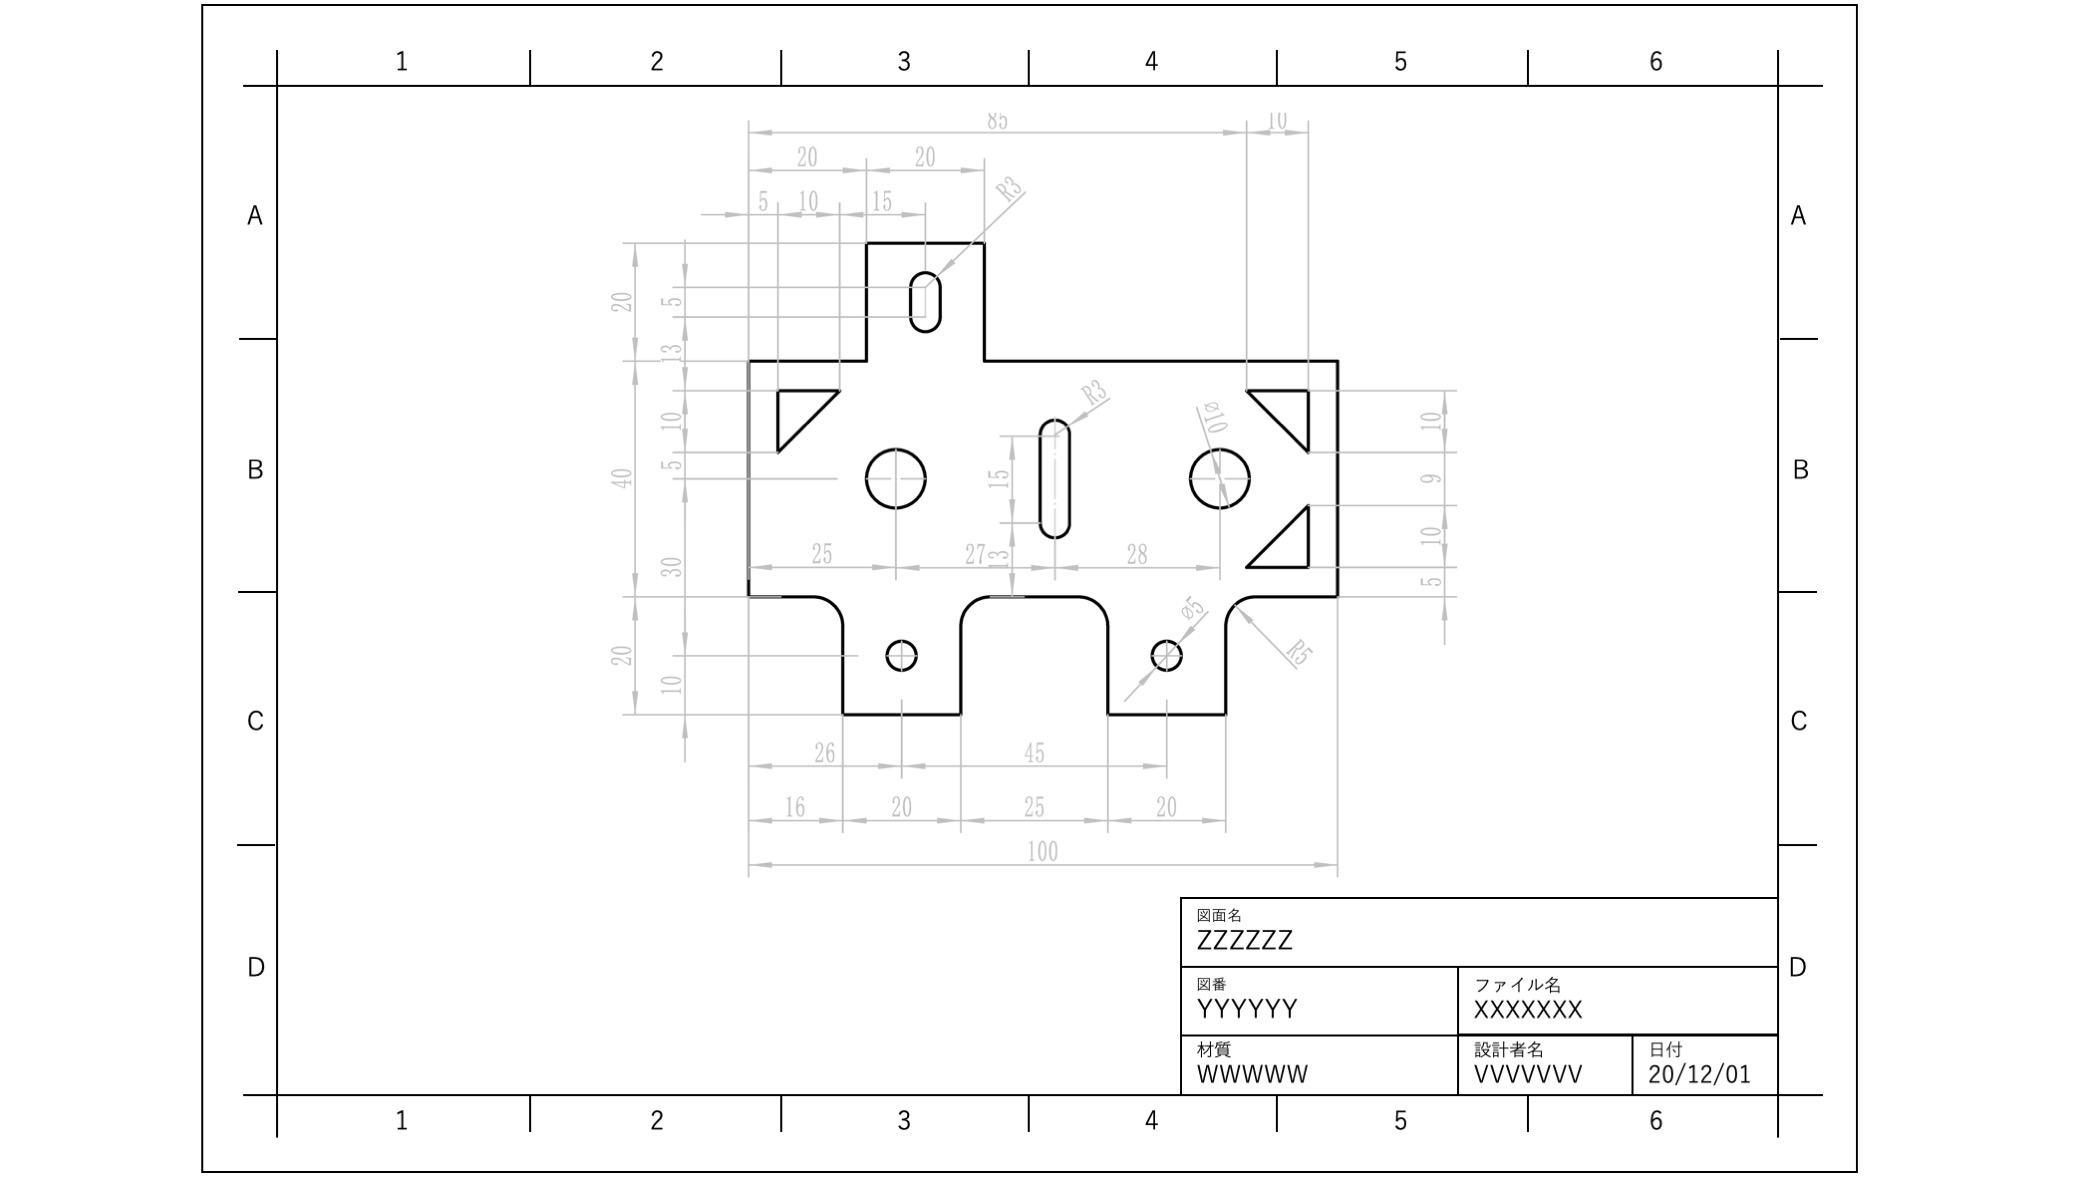circle: (852, 438, 935, 515), (1186, 443, 1258, 510), (883, 627, 917, 676), (1148, 632, 1184, 673)
round_rectangle: (1028, 410, 1083, 548), (899, 265, 953, 345)
triangle: (770, 379, 844, 459), (1245, 379, 1317, 453), (1243, 495, 1312, 568)
